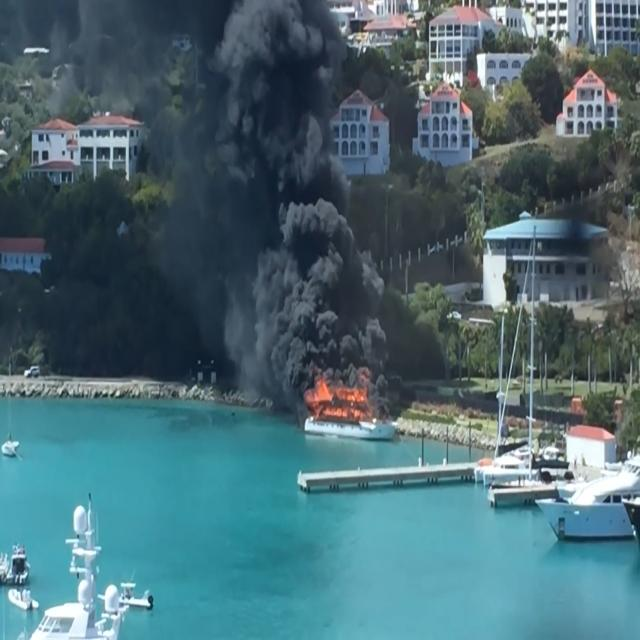fire: (304, 372, 366, 434)
smoke: (224, 71, 350, 344)
